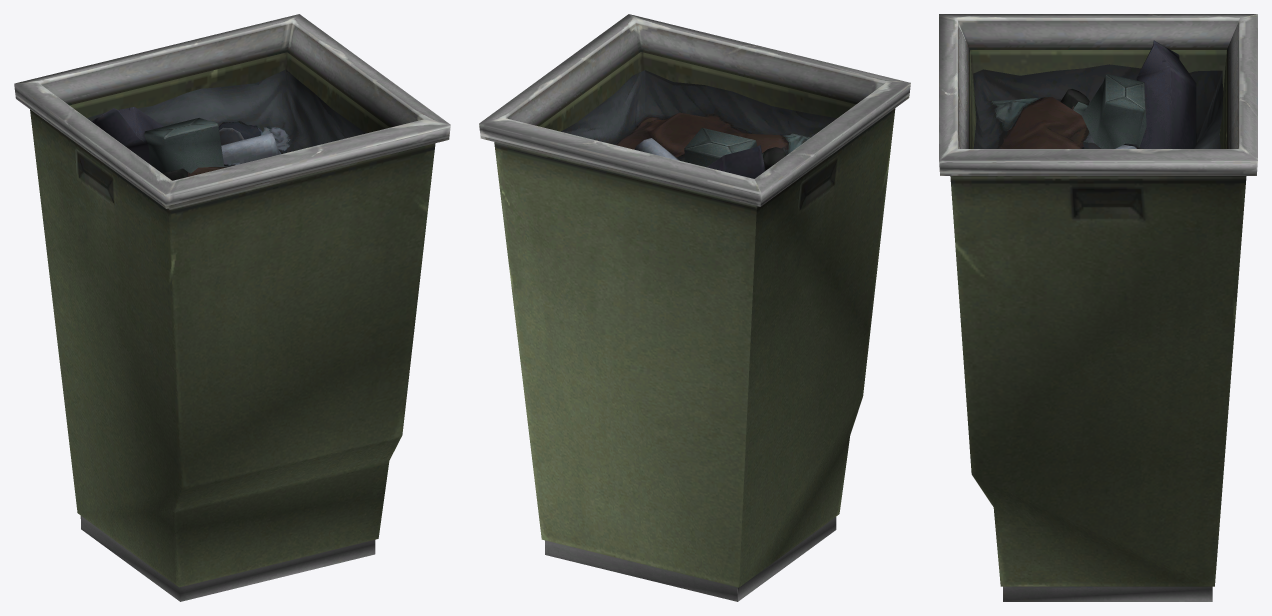
The model's file is trashcan_plastic.dae.
3 views of the same model, side by side, from view 1: azimuth 30°, elevation 25°; view 2: azimuth 150°, elevation 25°; view 3: azimuth 270°, elevation 25° (orthographic). The views are drawn at different scales.
Parts seen in each view (by area): view 1: trashcan_plastic; view 2: trashcan_plastic; view 3: trashcan_plastic.
Boxes of the visible parts, x1,y1,x2,y2 form: trashcan_plastic: [14, 14, 450, 601]; trashcan_plastic: [479, 14, 910, 601]; trashcan_plastic: [939, 14, 1257, 601].
Bounding box in the file's own units: 13.43 × 19.99 × 12.34.
